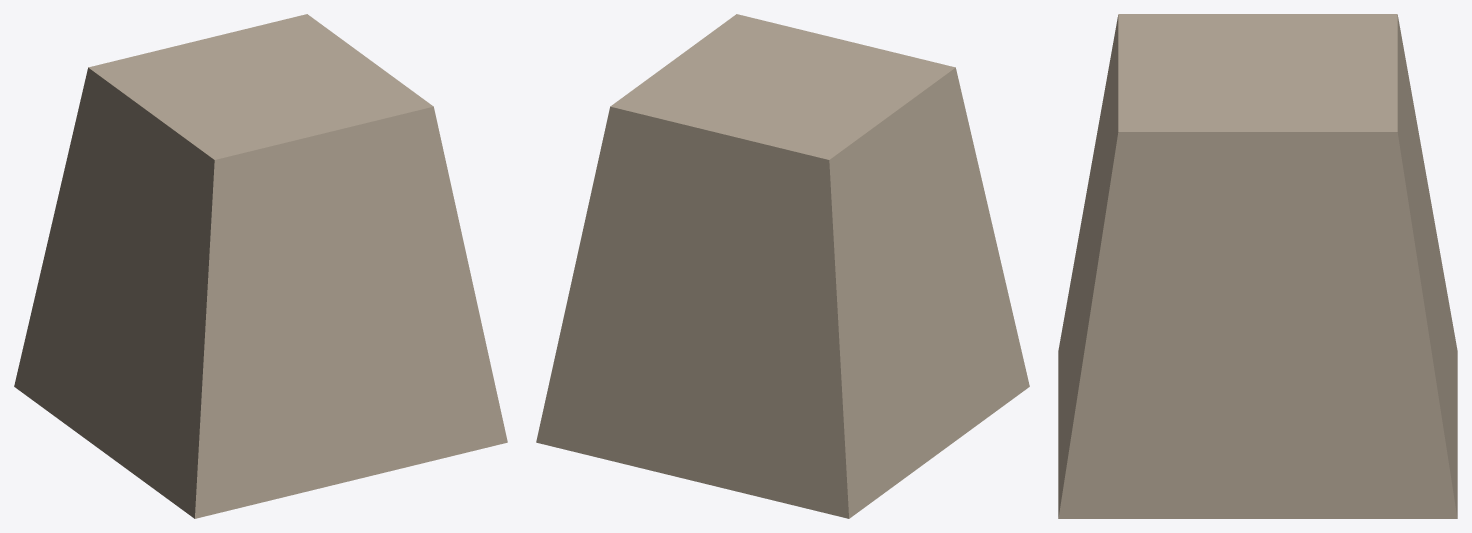
File: decor_rock_b.glb
The picture shows the model from 3 angles, left to right: view 1: azimuth 30°, elevation 25°; view 2: azimuth 150°, elevation 25°; view 3: azimuth 270°, elevation 25°; orthographic projection. The views are drawn at different scales.
Parts seen in each view (by area): view 1: decor_rock_b; view 2: decor_rock_b; view 3: decor_rock_b.
Part boxes in pixels (left/top/right/bottom): decor_rock_b: left=14, top=14, right=507, bottom=518; decor_rock_b: left=536, top=14, right=1029, bottom=518; decor_rock_b: left=1058, top=14, right=1457, bottom=518.
Size of the model in its own units: 0.194 by 0.194 by 0.194.
